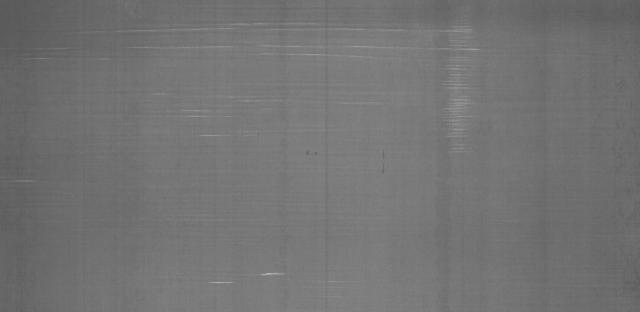waist_folding: (142, 20, 474, 254)
